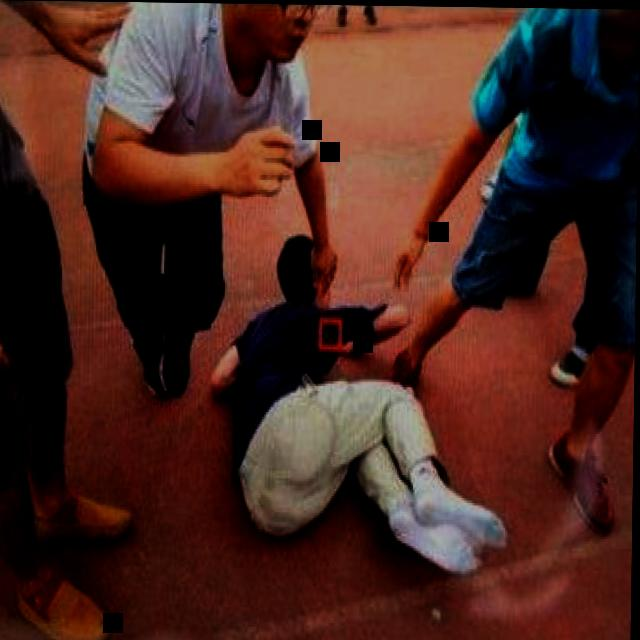Fall-Detected: (201, 207, 518, 585)
